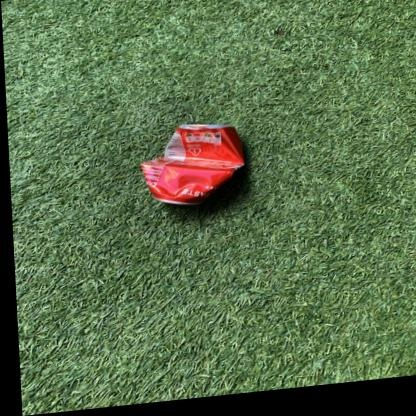trash: (141, 124, 244, 204)
